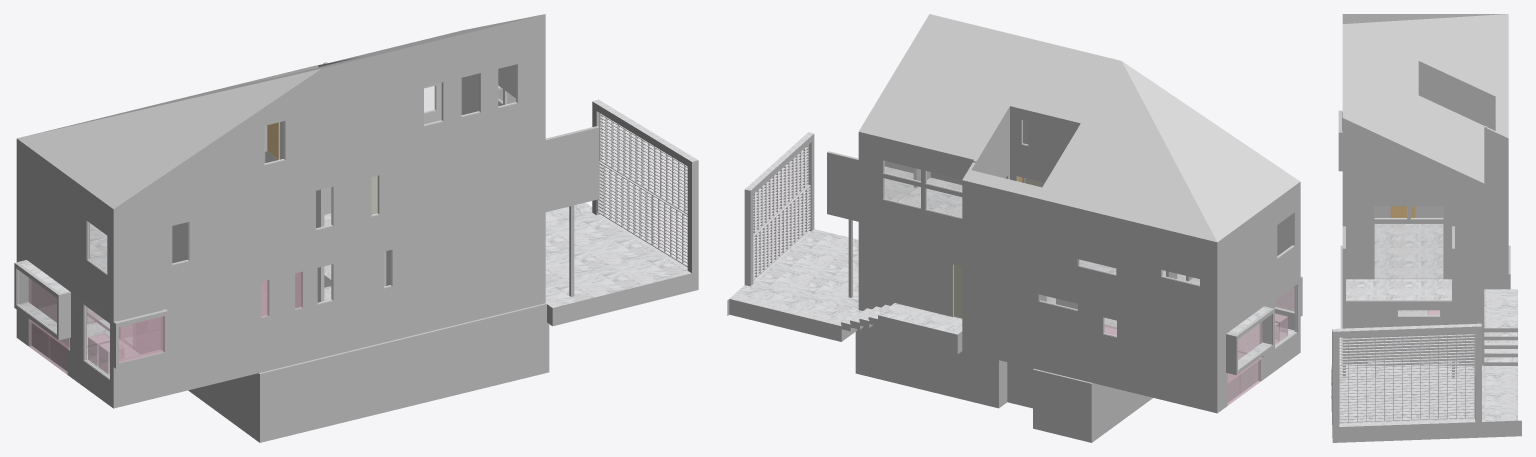
The picture shows the model from 3 angles, left to right: view 1: azimuth 30°, elevation 25°; view 2: azimuth 150°, elevation 25°; view 3: azimuth 270°, elevation 25°; orthographic projection. The views are drawn at different scales.
Visible parts, largest first — view 1: ◇壁材1; view 2: ◇壁材1; view 3: ◇壁材1.
Boxes of the visible parts, x1,y1,x2,y2 form: ◇壁材1: (14,14,698,442); ◇壁材1: (727,14,1302,442); ◇壁材1: (1331,14,1521,442).
Size of the model in its own units: 21.95 by 12.7 by 7.16.
9 materials, 2 textured.
